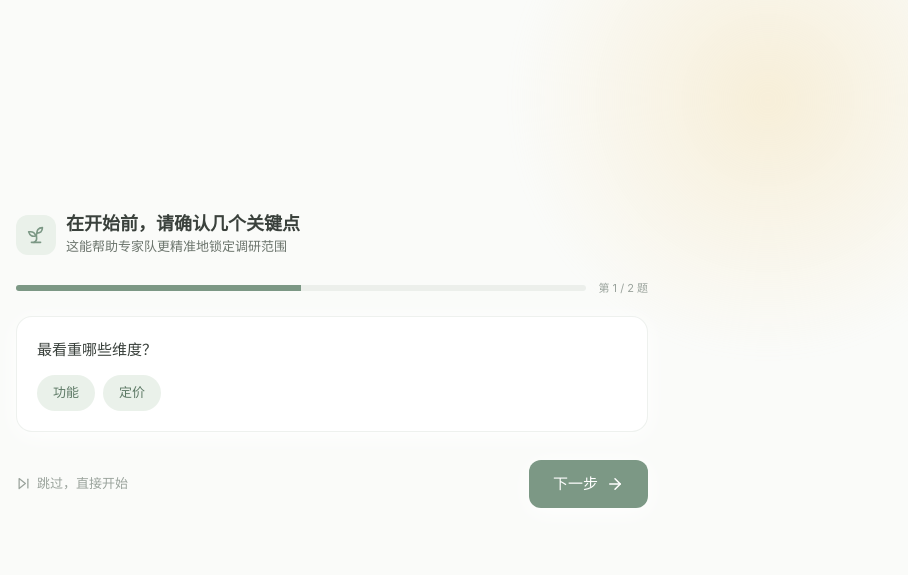
Test: T-Wizard 分步向导 + 核对屏 › TC-W2 连续推进到末题再「下一步」进入核对屏（含全部题型控件）
Expected: the text "最看重哪些维度？" is shown, left=37, top=340, right=157, bottom=359
What coordinates should you click on to do the following:
click the button "下一步"
I would click on:
 (588, 484)
Its box is left=529, top=460, right=648, bottom=508.
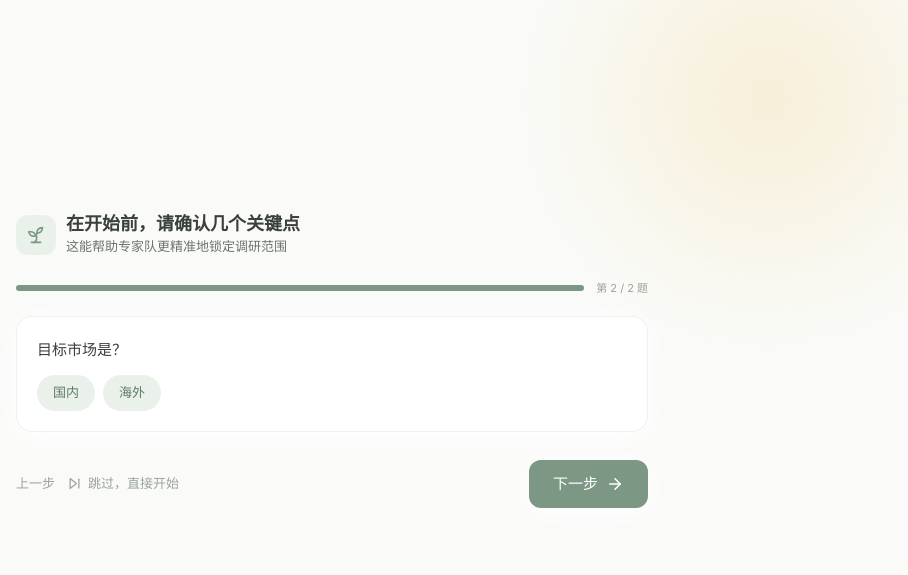
Result: the text "目标市场是？" is shown at left=37, top=340, right=127, bottom=359
What coordinates should you click on to do the following:
click the button "下一步"
I would click on:
 (588, 484)
Its box is left=529, top=460, right=648, bottom=508.
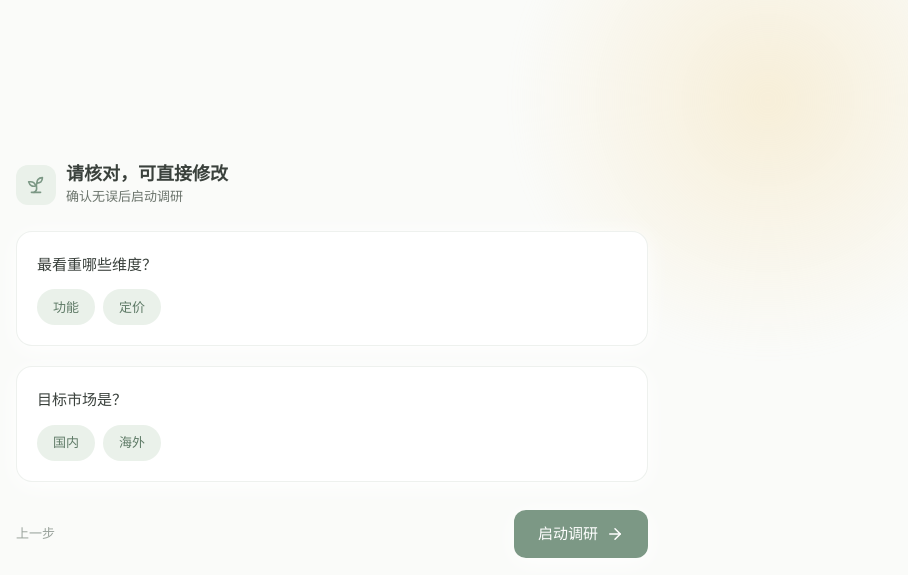
Result: the text "目标市场是？" is shown at left=37, top=390, right=127, bottom=409
Result: the text "请核对，可直接修改" is shown at left=66, top=162, right=228, bottom=186
Result: the text "最看重哪些维度？" is shown at left=37, top=255, right=157, bottom=274
